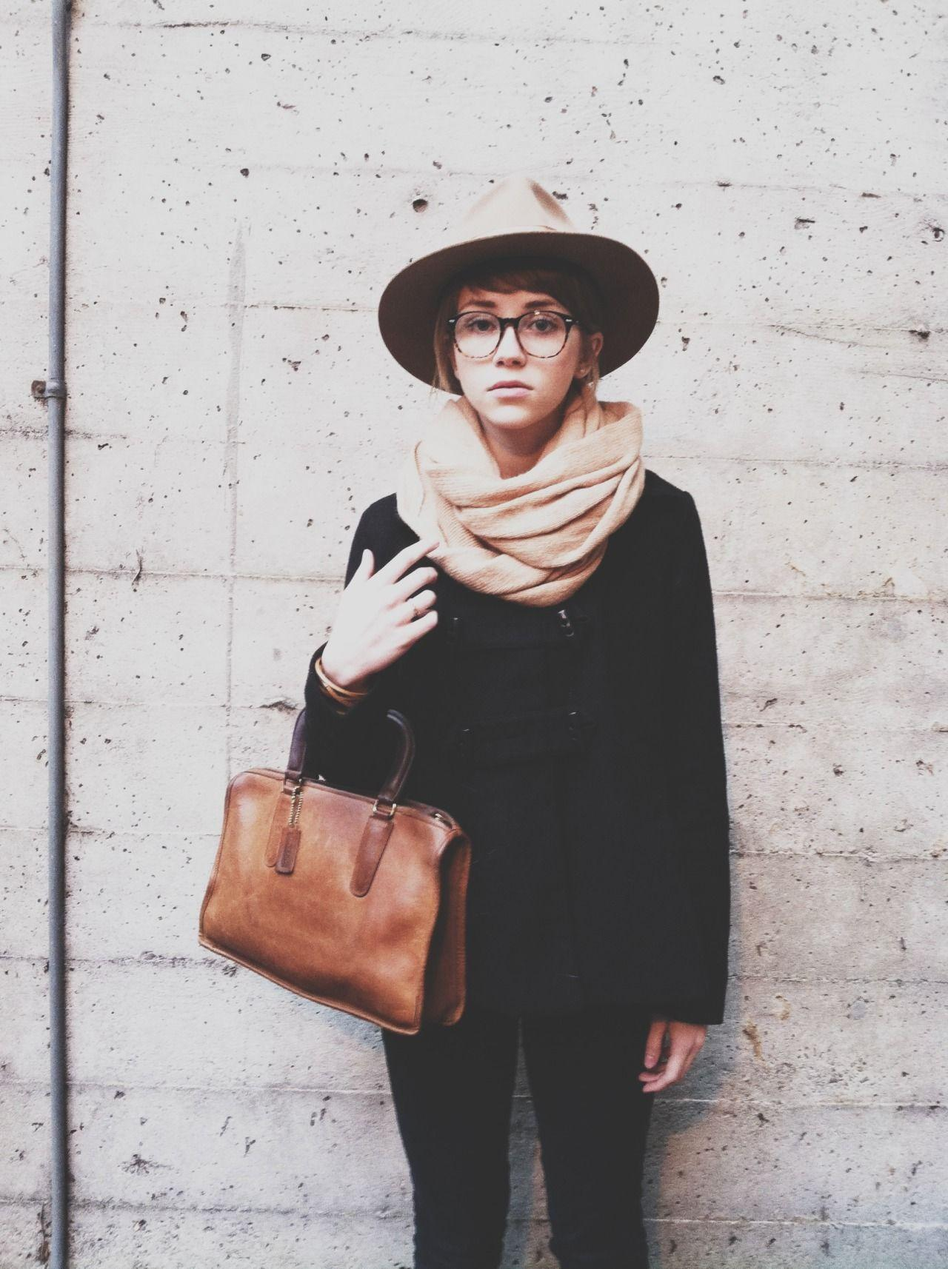cap: (367, 144, 667, 392)
sunglasses: (448, 292, 596, 366)
